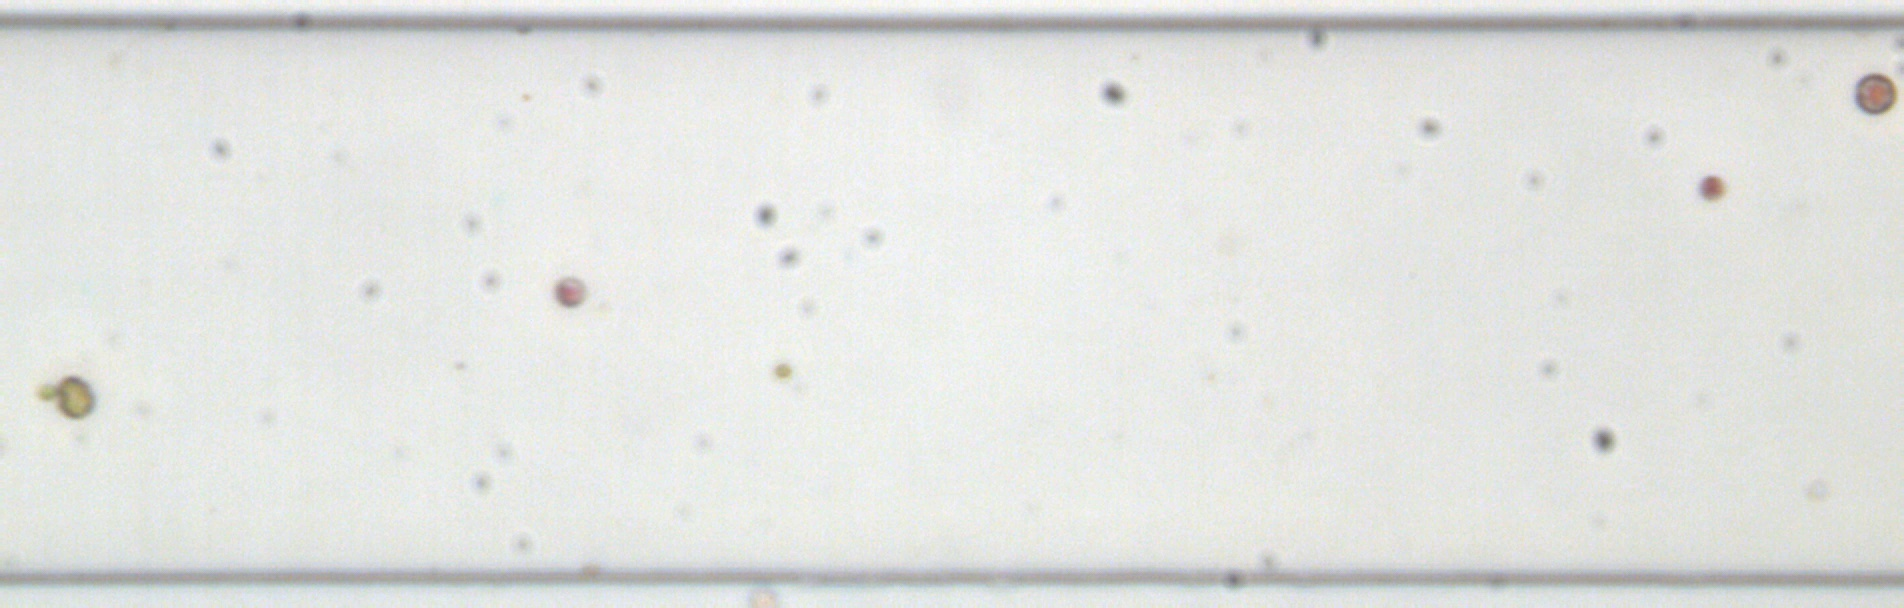Chlorella: (36, 380, 57, 405), (772, 360, 789, 380)
Effrenium: (52, 373, 97, 420)
Porphyridium: (1851, 70, 1900, 118), (552, 273, 586, 308), (1694, 174, 1723, 203)
